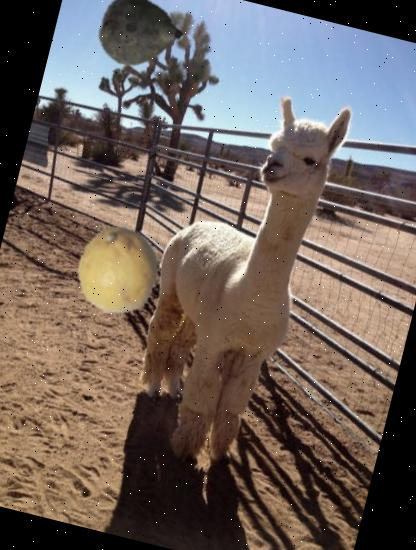Beetroot: (86, 0, 207, 93)
Lemon: (66, 217, 174, 325)
